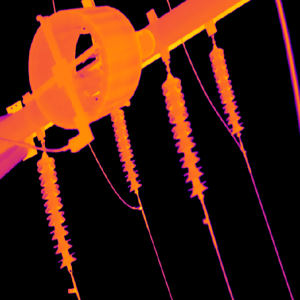insulator: (159, 73, 207, 198), (35, 151, 75, 268), (208, 45, 244, 136), (109, 106, 141, 192)
